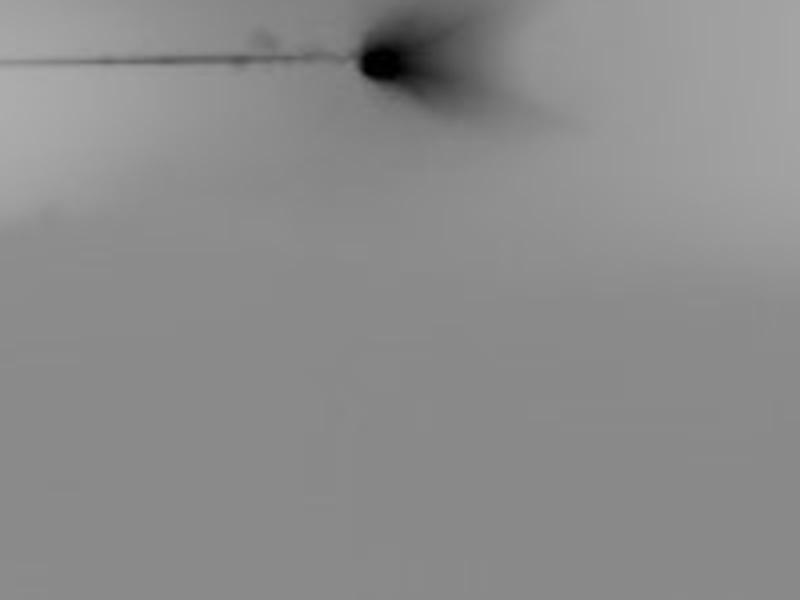defect: (359, 42, 418, 86)
